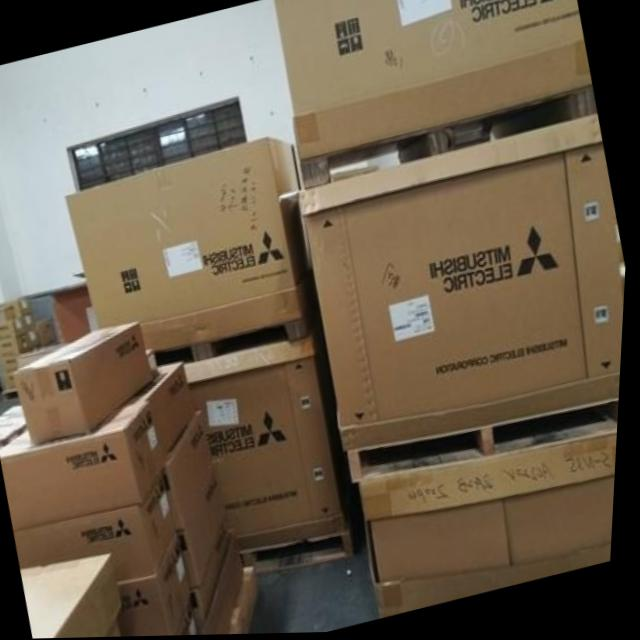box: (298, 115, 627, 485), (273, 0, 598, 191), (67, 138, 323, 363), (360, 409, 622, 621), (188, 334, 359, 567), (4, 402, 172, 530), (20, 466, 183, 583), (16, 321, 159, 445), (26, 551, 129, 639), (122, 533, 195, 637), (167, 410, 220, 533), (132, 362, 199, 458), (183, 465, 232, 589), (195, 512, 239, 629), (181, 589, 212, 636)
